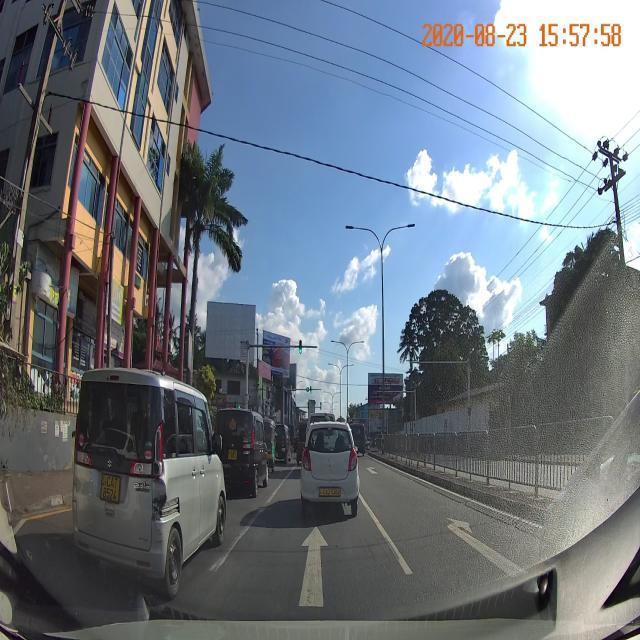forward: (171, 519, 448, 614)
